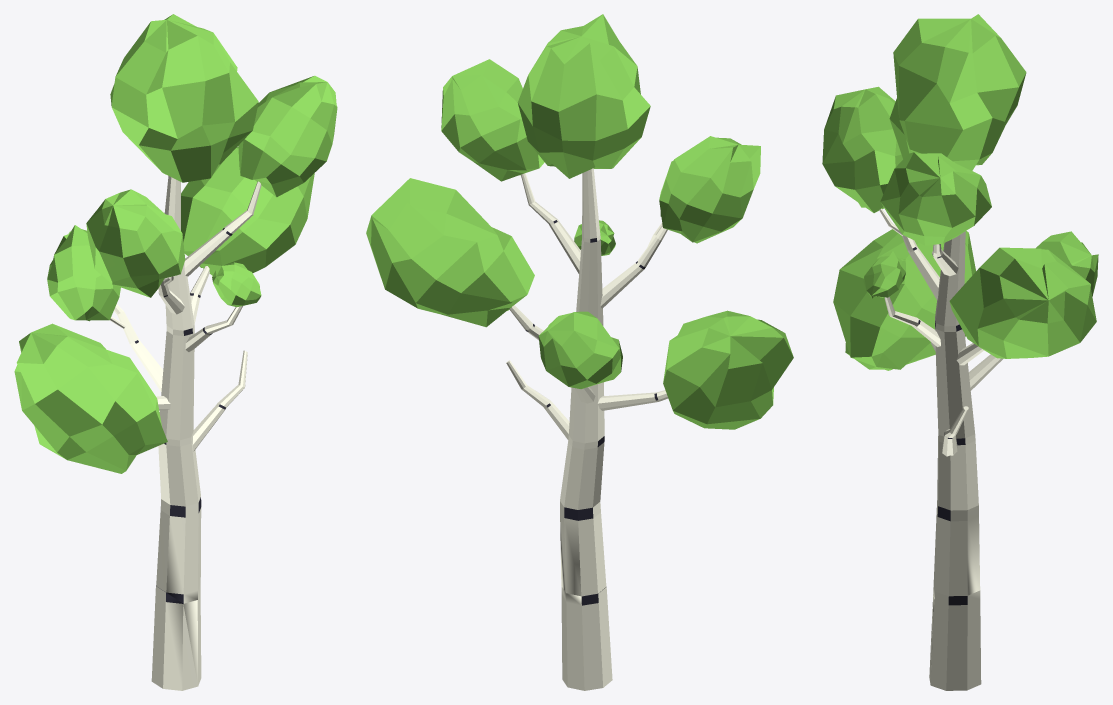
Rendered from SummerBrichTree.fbx.
3 views of the same model, side by side, from view 1: azimuth 30°, elevation 25°; view 2: azimuth 150°, elevation 25°; view 3: azimuth 270°, elevation 25° (orthographic).
Parts seen in each view (by area): view 1: Berezka3, Berezka3.001; view 2: Berezka3, Berezka3.001; view 3: Berezka3, Berezka3.001.
Part boxes in pixels (x1,y1,x2,y2): Berezka3: (14, 14, 337, 603); Berezka3.001: (151, 584, 201, 690); Berezka3: (366, 14, 793, 596); Berezka3.001: (561, 587, 612, 690); Berezka3: (822, 14, 1098, 599); Berezka3.001: (929, 590, 981, 690).
Size of the model in its own units: 365 by 643 by 242.
